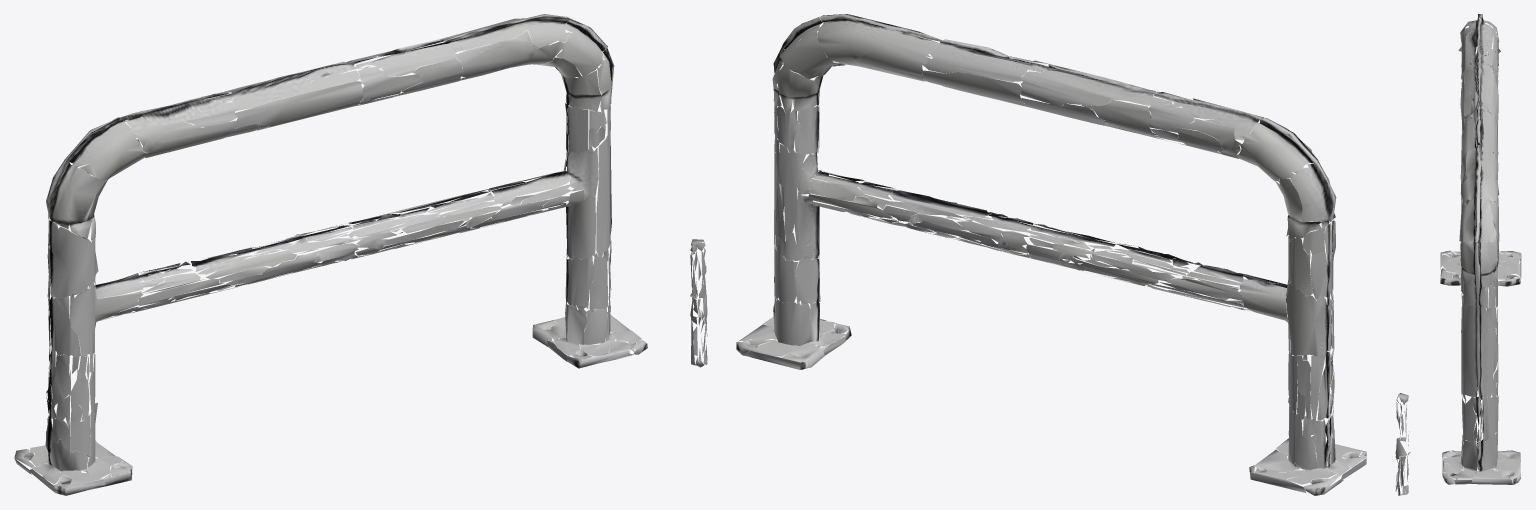
File: prop14.glb
3 views of the same model, side by side, from view 1: azimuth 30°, elevation 25°; view 2: azimuth 150°, elevation 25°; view 3: azimuth 270°, elevation 25° (orthographic). The views are drawn at different scales.
Parts seen in each view (by area): view 1: tripo_node_a466a207-c524-4194-80ff-942eaf8229fd; view 2: tripo_node_a466a207-c524-4194-80ff-942eaf8229fd; view 3: tripo_node_a466a207-c524-4194-80ff-942eaf8229fd.
Boxes of the visible parts, x1=… form: tripo_node_a466a207-c524-4194-80ff-942eaf8229fd: x1=14, y1=14, x2=707, y2=495; tripo_node_a466a207-c524-4194-80ff-942eaf8229fd: x1=736, y1=14, x2=1366, y2=495; tripo_node_a466a207-c524-4194-80ff-942eaf8229fd: x1=1395, y1=14, x2=1521, y2=495.
Bounding box in the file's own units: 1 × 0.5318 × 0.2226.
Materials: 1 (1 with a texture image).
